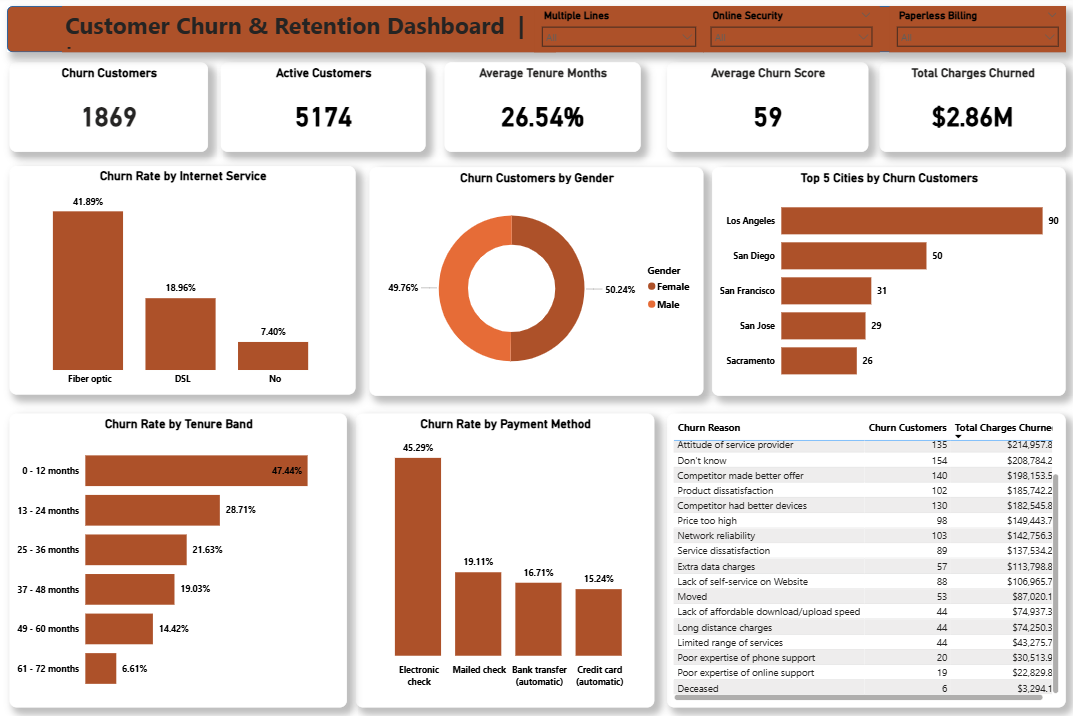

The page's visual inventory and layout, read from the dashboard file:
{"tool":"powerbi","page":{"name":"Customer Churn & Retention","canvas":[1500,1000],"ordinal":1},"visuals":[{"type":"card","title":"Churn Customers","fields":{"Values":["Measure Table.Churn Customers"]},"box":[24.2,91.6,274.7,124.4],"z":1000},{"type":"card","title":"Active Customers","fields":{"Values":["Measure Table.Retained Customers"]},"box":[316.2,91.6,283.3,124.4],"z":2000},{"type":"card","title":"Total Charges Churned","fields":{"Values":["Measure Table.Total Charges Churned"]},"box":[1226.7,91.6,257.4,124.4],"z":3000},{"type":"card","title":"Average Churn Score","fields":{"Values":["Measure Table.Average Churn Score"]},"box":[933,91.6,278.2,124.4],"z":8000},{"type":"shape","box":[20.7,13.8,1463.4,63.9],"z":11000},{"type":"textbox","box":[96.8,13.8,682.5,63.9],"z":12000},{"type":"slicer","fields":{"Values":["Telco_Customer.Paperless Billing"]},"box":[1240.5,13.8,243.6,63.9],"z":13000},{"type":"slicer","fields":{"Values":["Telco_Customer.Online Security"]},"box":[983.1,13.8,243.6,63.9],"z":14000},{"type":"slicer","fields":{"Values":["Telco_Customer.Multiple Lines"]},"box":[749.8,13.8,233.2,63.9],"z":15000},{"type":"card","title":"Average Tenure Months","fields":{"Values":["Measure Table.Churn Rate"]},"box":[625.4,91.6,271.3,124.4],"z":15001},{"type":"clusteredColumnChart","fields":{"Category":["Telco_Customer.Internet Service"],"Y":["Measure Table.Churn Rate"]},"box":[24.2,235,478.6,316.2],"z":15002},{"type":"donutChart","fields":{"Category":["Telco_Customer.Gender"],"Y":["Measure Table.Churn Customers"]},"box":[521.8,236.7,461.3,316.2],"z":15003},{"type":"clusteredBarChart","title":"Top 5 Cities by Churn Customers","fields":{"Y":["Measure Table.Churn Customers"],"Category":["Telco_Customer.City"]},"box":[995.2,236.7,488.9,316.2],"z":15004},{"type":"tableEx","fields":{"Values":["Telco_Customer.Churn Reason","Measure Table.Churn Customers","Measure Table.Total Charges Churned"]},"box":[933,577.1,551.1,406],"z":15005},{"type":"clusteredColumnChart","fields":{"Category":["Telco_Customer.Payment Method"],"Y":["Measure Table.Churn Rate"]},"box":[502.8,577.1,412.9,406],"z":15006},{"type":"clusteredBarChart","fields":{"Category":["Telco_Customer.Tenure Band"],"Y":["Measure Table.Churn Rate"]},"box":[24.2,577.1,466.5,406],"z":15007}]}

Visuals, with their boxes in screenshot pixels (x1, y1, x2, y2), scaled from the page's 1500x1000 canvas onto the 1073x716 screenshot:
"Churn Customers" card: [17,66,214,155]
"Active Customers" card: [226,66,429,155]
"Total Charges Churned" card: [877,66,1062,155]
"Average Churn Score" card: [667,66,866,155]
shape: [15,10,1062,56]
textbox: [69,10,557,56]
slicer - Telco_Customer.Paperless Billing: [887,10,1062,56]
slicer - Telco_Customer.Online Security: [703,10,877,56]
slicer - Telco_Customer.Multiple Lines: [536,10,703,56]
"Average Tenure Months" card: [447,66,641,155]
clusteredColumnChart - Telco_Customer.Internet Service x Measure Table.Churn Rate: [17,168,360,395]
donutChart - Telco_Customer.Gender x Measure Table.Churn Customers: [373,169,703,396]
"Top 5 Cities by Churn Customers" clusteredBarChart: [712,169,1062,396]
tableEx - Telco_Customer.Churn Reason x Measure Table.Churn Customers: [667,413,1062,704]
clusteredColumnChart - Telco_Customer.Payment Method x Measure Table.Churn Rate: [360,413,655,704]
clusteredBarChart - Telco_Customer.Tenure Band x Measure Table.Churn Rate: [17,413,351,704]
